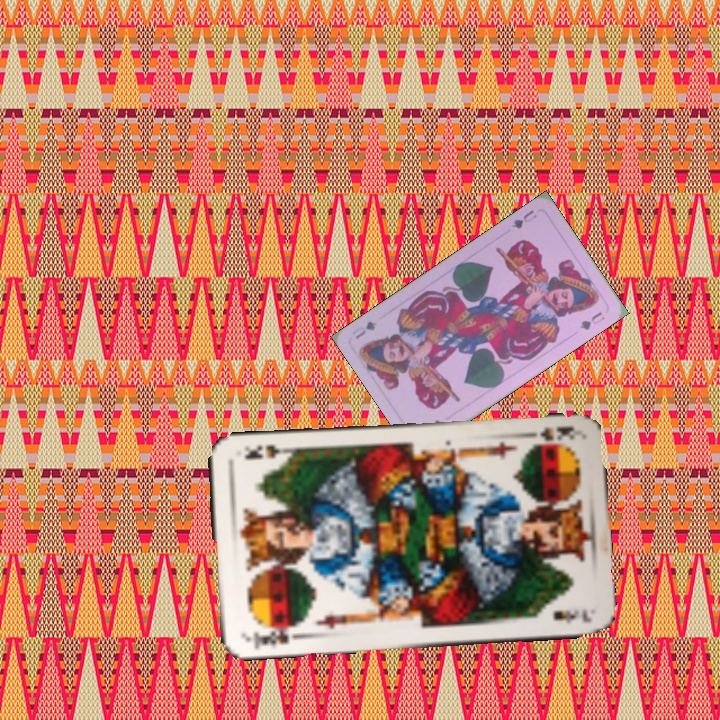GU: (508, 206, 539, 231)
SK: (242, 621, 301, 651), (519, 421, 578, 444)
